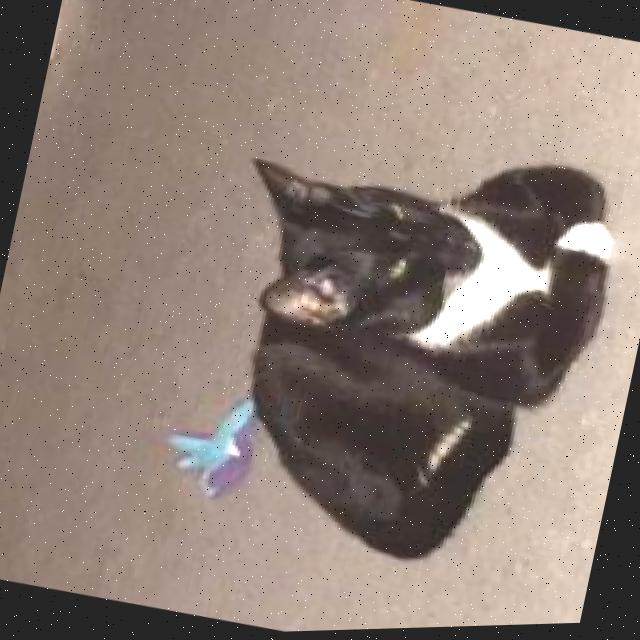Tuxedo: (168, 99, 636, 602)
